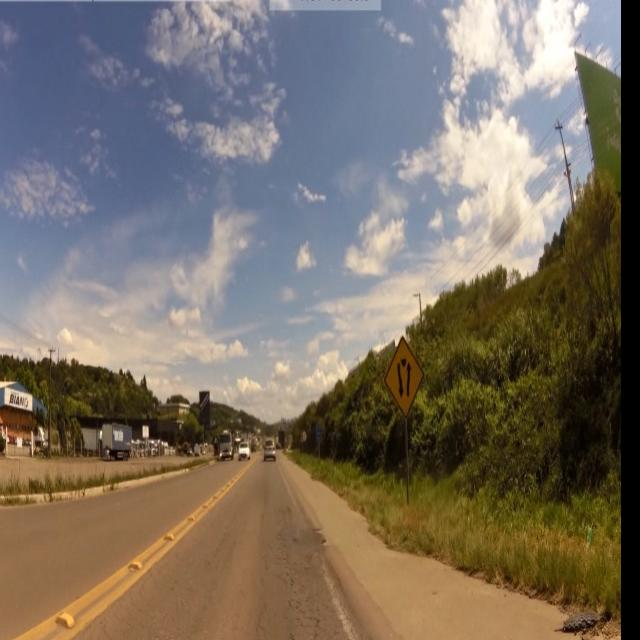A-42a: (384, 335, 425, 421)
